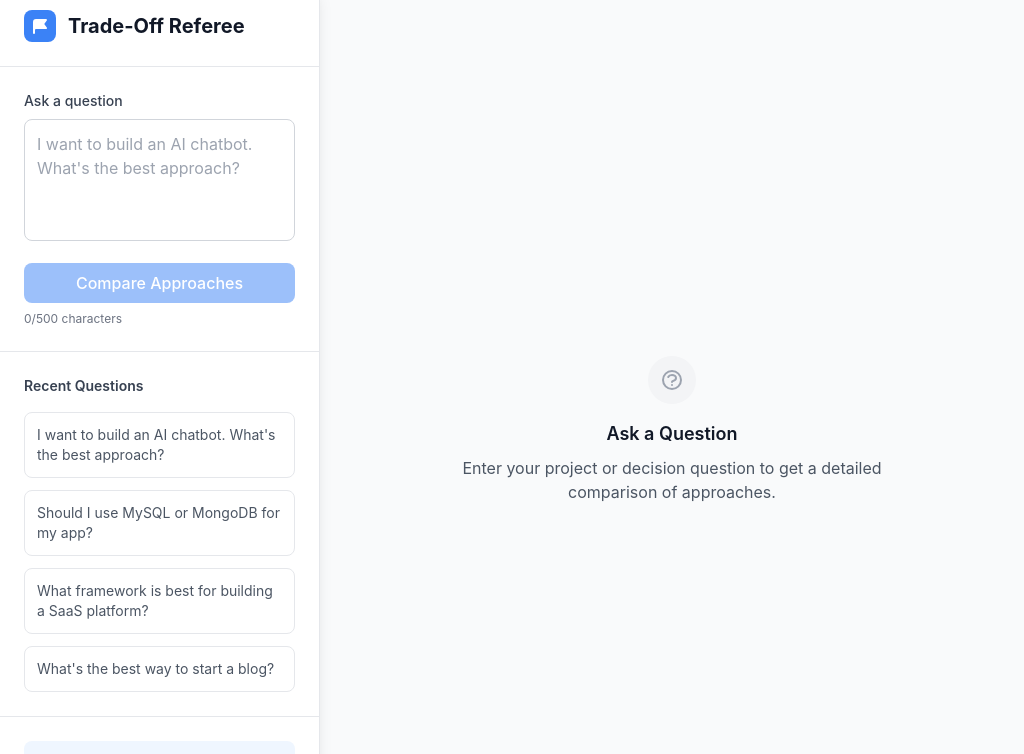
App Component › displays analysis results on successful API response
This screenshot has width=1024, height=754.
Type "Test question" into the text box labelled "Ask a question" at (160, 180), box [24,119,295,241]
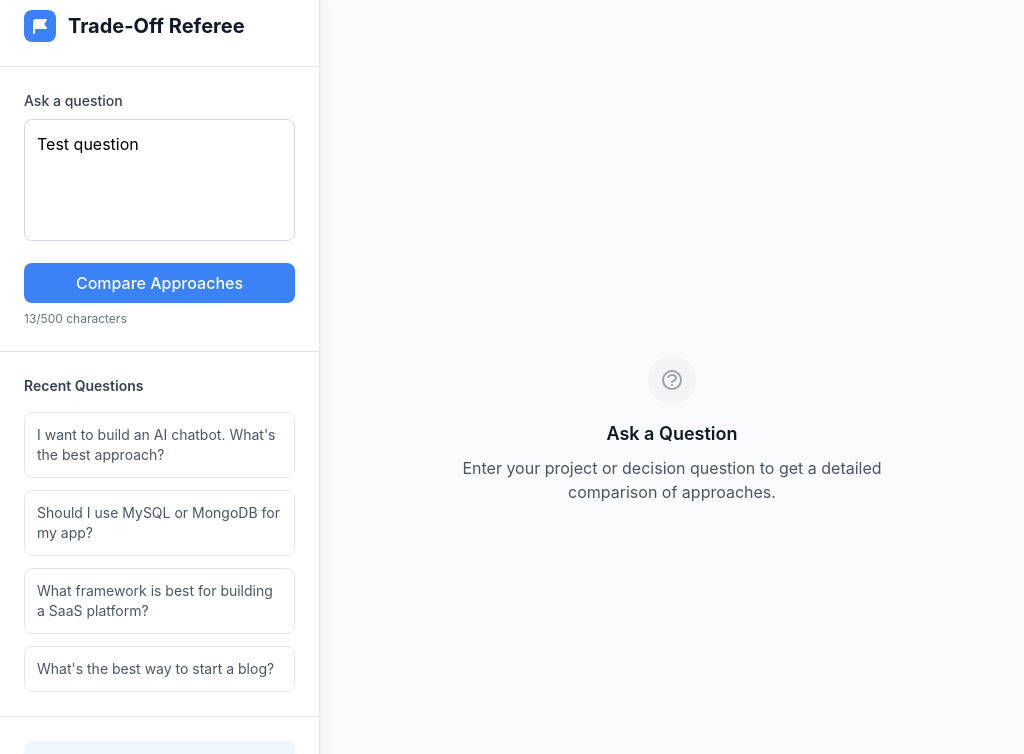
Click the button "Compare Approaches" at (160, 283), box [24,263,295,303]
(page scrolled)
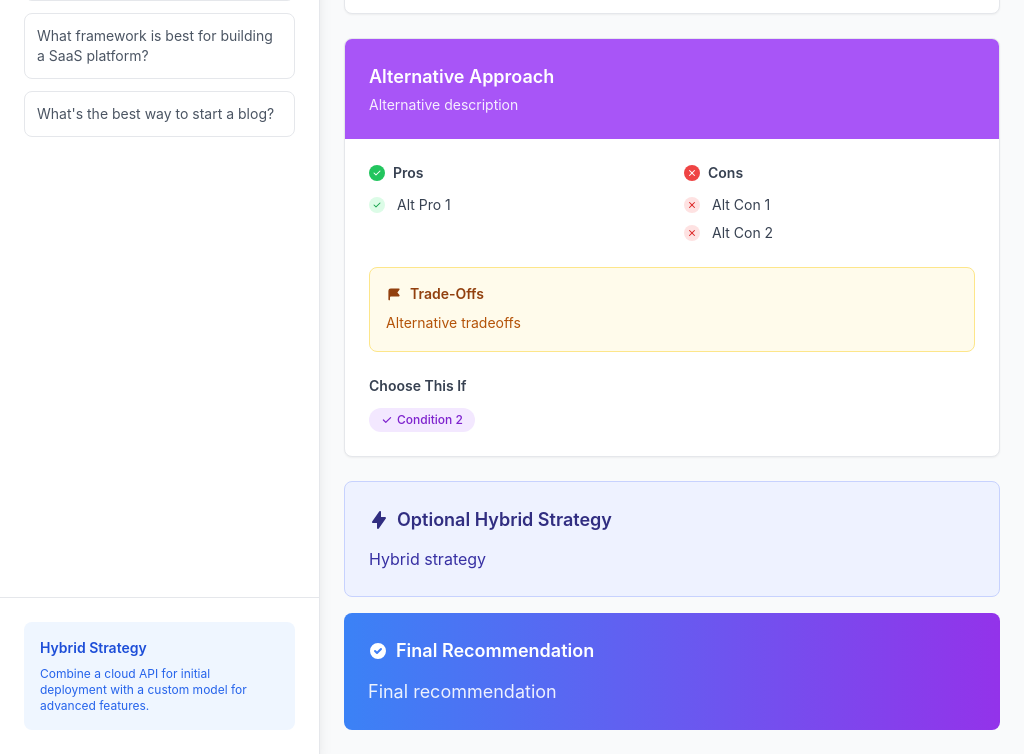
Result: the heading "Alternative Approach" is shown at [369,66,554,87]
Result: the text "Final recommendation" is shown at [368,680,557,702]
